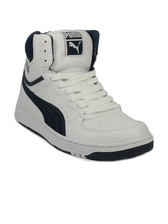shoes: (11, 29, 157, 160)
